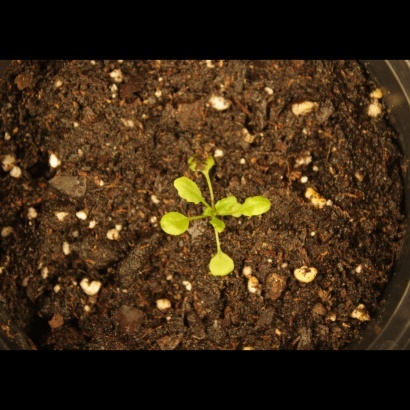leaf: (206, 241, 241, 283), (183, 145, 224, 177), (229, 193, 275, 221), (171, 174, 207, 206), (157, 211, 192, 241), (213, 194, 236, 217), (206, 215, 229, 238)
